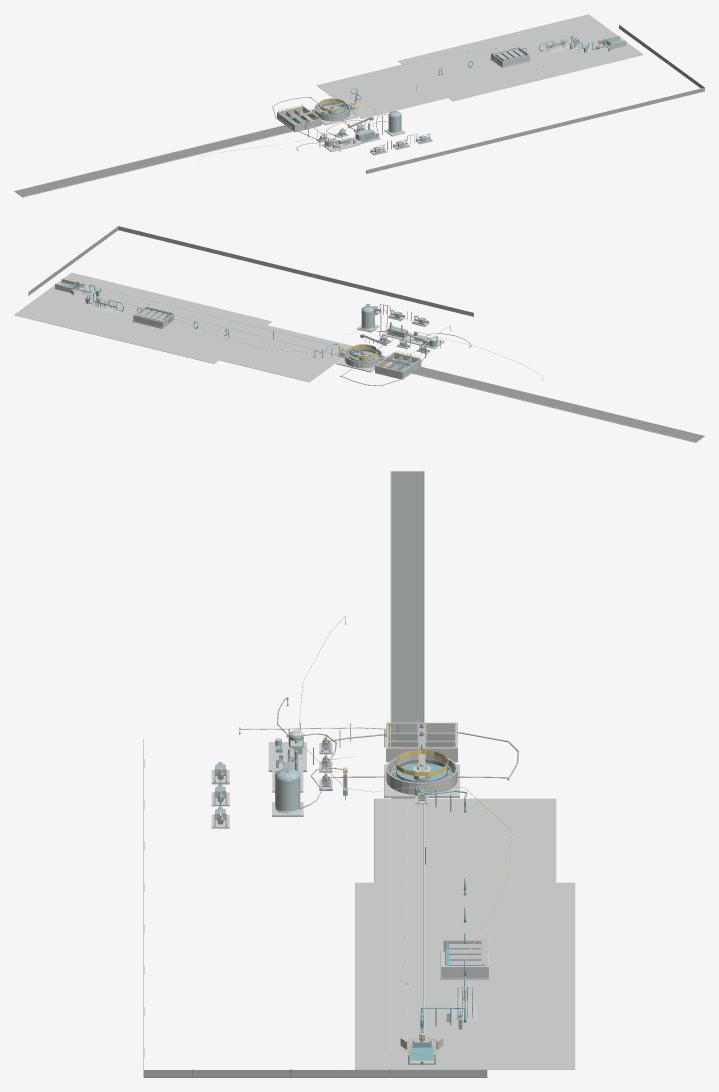
3 renders of one model, top to bottom at view 1: azimuth 30°, elevation 25°; view 2: azimuth 150°, elevation 25°; view 3: azimuth 270°, elevation 25°, orthographic. The views are drawn at different scales.
Parts seen in each view (by area): view 1: render-batch-15, render-batch-16, render-batch-4, render-batch-10, render-batch-17, render-batch-12, render-batch-9, render-batch-14, render-batch-22, render-batch-6, render-batch-13, render-batch-1 (+2 smaller); view 2: render-batch-15, render-batch-16, render-batch-4, render-batch-10, render-batch-17, render-batch-12, render-batch-9, render-batch-14, render-batch-22, render-batch-6, render-batch-13, render-batch-1; view 3: render-batch-15, render-batch-4, render-batch-16, render-batch-10, render-batch-17, render-batch-12, render-batch-14, render-batch-11, render-batch-9, render-batch-1, render-batch-6, render-batch-22 (+1 smaller).
Boxes of the visible parts, x1=… form: render-batch-15: x1=316, y1=14, x2=643, y2=118; render-batch-16: x1=277, y1=36, x2=626, y2=155; render-batch-4: x1=14, y1=111, x2=356, y2=196; render-batch-10: x1=366, y1=25, x2=704, y2=173; render-batch-17: x1=14, y1=46, x2=615, y2=197; render-batch-12: x1=286, y1=38, x2=611, y2=151; render-batch-9: x1=290, y1=40, x2=610, y2=152; render-batch-14: x1=320, y1=40, x2=586, y2=152; render-batch-22: x1=278, y1=35, x2=624, y2=147; render-batch-6: x1=285, y1=39, x2=608, y2=153; render-batch-13: x1=272, y1=96, x2=394, y2=150; render-batch-1: x1=283, y1=39, x2=620, y2=141; render-batch-15: x1=14, y1=272, x2=352, y2=382; render-batch-16: x1=55, y1=279, x2=444, y2=379; render-batch-4: x1=412, y1=367, x2=704, y2=442; render-batch-10: x1=28, y1=226, x2=473, y2=316; render-batch-17: x1=75, y1=284, x2=704, y2=442; render-batch-12: x1=70, y1=282, x2=440, y2=366; render-batch-9: x1=71, y1=284, x2=437, y2=363; render-batch-14: x1=96, y1=297, x2=437, y2=354; render-batch-22: x1=57, y1=278, x2=423, y2=371; render-batch-6: x1=57, y1=283, x2=441, y2=371; render-batch-13: x1=340, y1=306, x2=471, y2=386; render-batch-1: x1=60, y1=282, x2=428, y2=371; render-batch-15: x1=355, y1=798, x2=575, y2=1069; render-batch-4: x1=391, y1=471, x2=423, y2=798; render-batch-16: x1=211, y1=722, x2=489, y2=1064; render-batch-10: x1=143, y1=739, x2=487, y2=1077; render-batch-17: x1=390, y1=471, x2=424, y2=1050; render-batch-12: x1=219, y1=723, x2=487, y2=1061; render-batch-14: x1=215, y1=730, x2=472, y2=1022; render-batch-11: x1=386, y1=733, x2=457, y2=1055; render-batch-9: x1=215, y1=723, x2=462, y2=1047; render-batch-1: x1=280, y1=732, x2=485, y2=1060; render-batch-6: x1=214, y1=725, x2=466, y2=1064; render-batch-22: x1=219, y1=720, x2=458, y2=1054.
Bounding box in the file's own units: 299 × 9.83 × 90.07.
